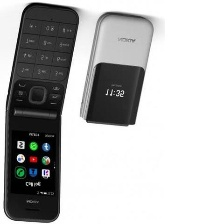phone: (2, 0, 81, 224), (78, 5, 164, 131)
